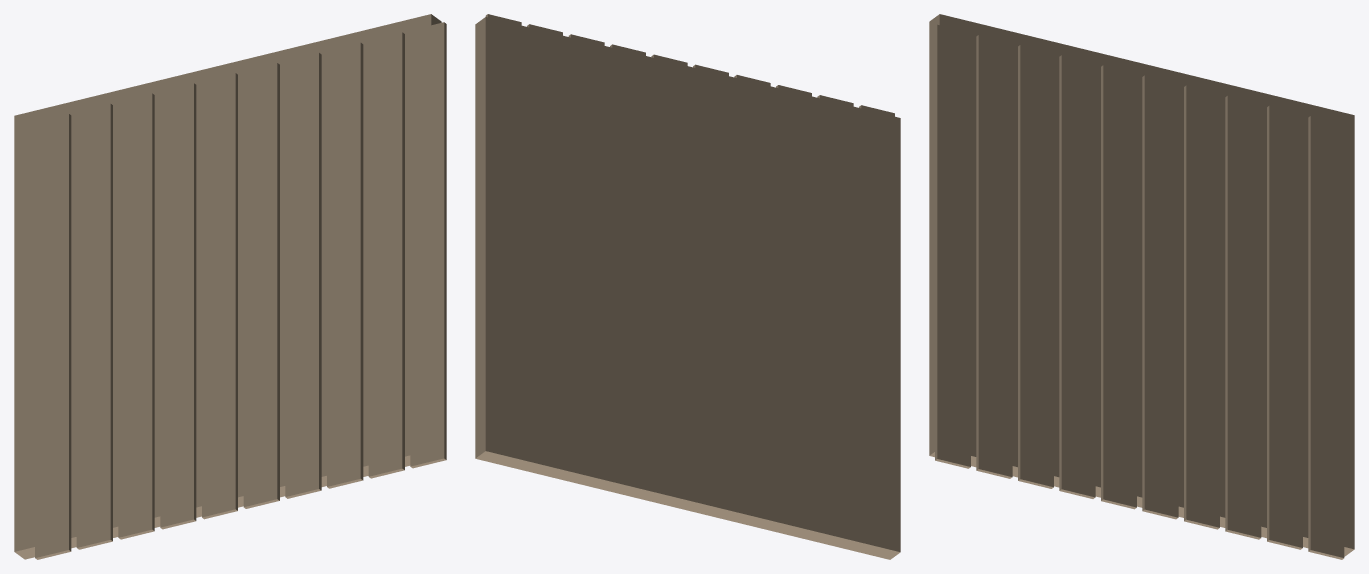
The model's file is cobblestone_square.glb.
The picture shows the model from 3 angles, left to right: view 1: azimuth 30°, elevation 25°; view 2: azimuth 150°, elevation 25°; view 3: azimuth 330°, elevation 25°; orthographic projection.
Visible parts, largest first — view 1: world; view 2: world; view 3: world.
Part boxes in pixels (bbox=[...]): world: bbox=[14, 14, 446, 559]; world: bbox=[475, 14, 900, 559]; world: bbox=[929, 14, 1354, 559].
Bounding box in the file's own units: 8.03 × 8 × 0.465.
